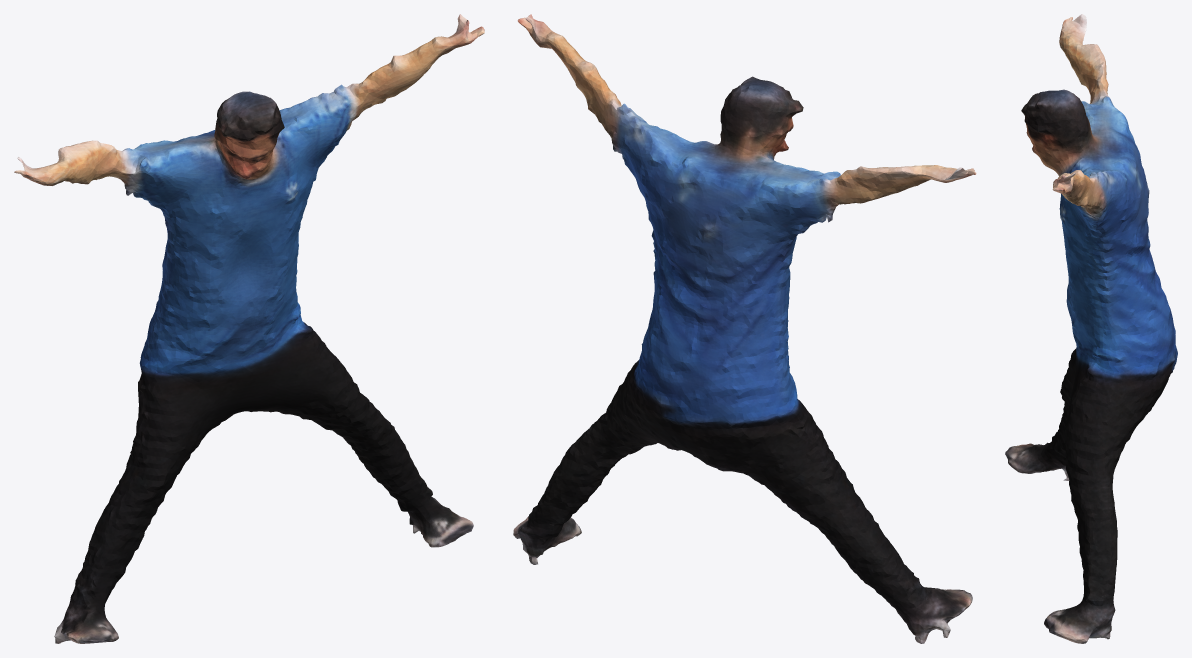
The model's file is 0017_000_0178_00041_07_00141_gau.glb.
3 renders of one model, left to right at view 1: azimuth 30°, elevation 25°; view 2: azimuth 150°, elevation 25°; view 3: azimuth 270°, elevation 25°, orthographic. The views are drawn at different scales.
Size of the model in its own units: 1.23 by 1.34 by 0.4369.
Materials: 1 (1 with a texture image).
